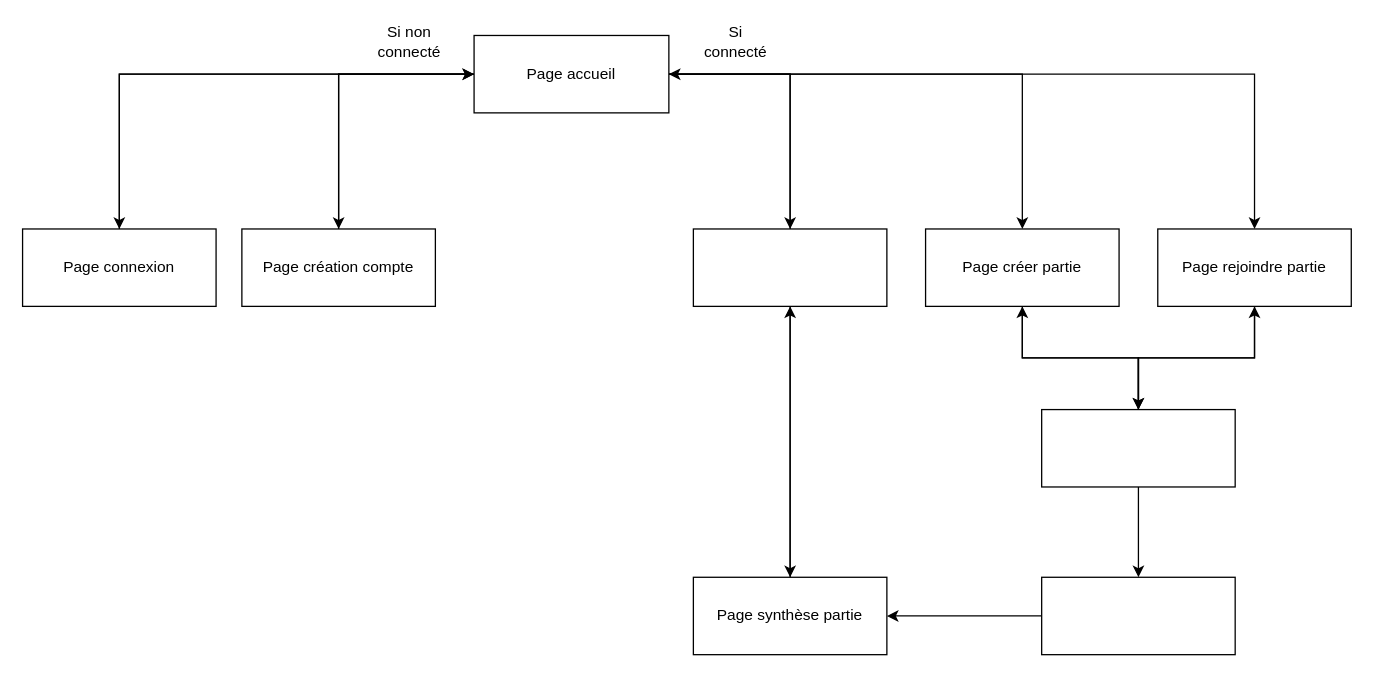
Image size: 1374x677. Some labels were removed from this diagram. The centre of each missing label's shape, as x and y in pixels:
"Page attendre joueur" goes at point 1137,447.
"Page jeu" goes at point 1137,615.
"Page profil" goes at point 789,267.
